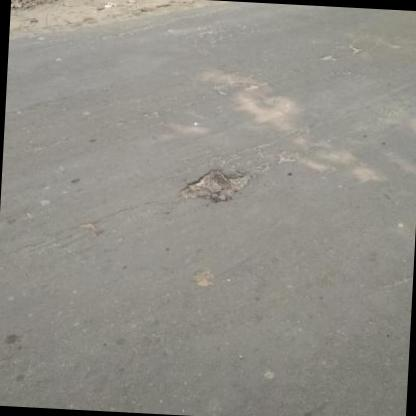pothole: (177, 164, 254, 204)
